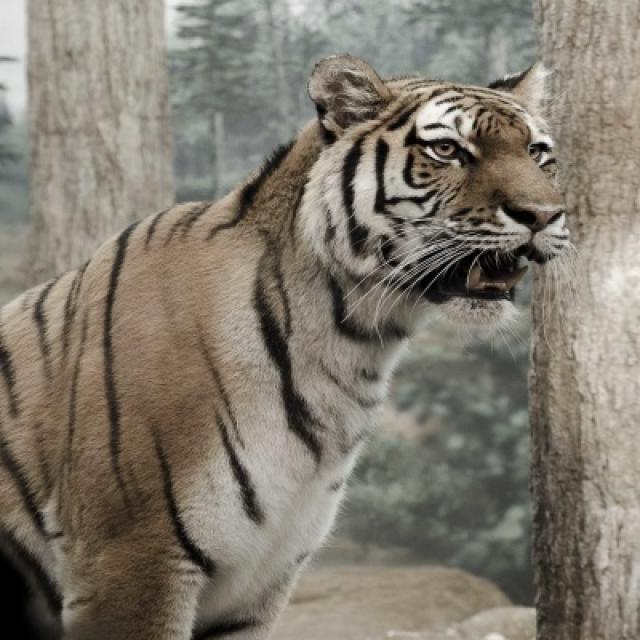Tiger: (0, 43, 576, 638)
